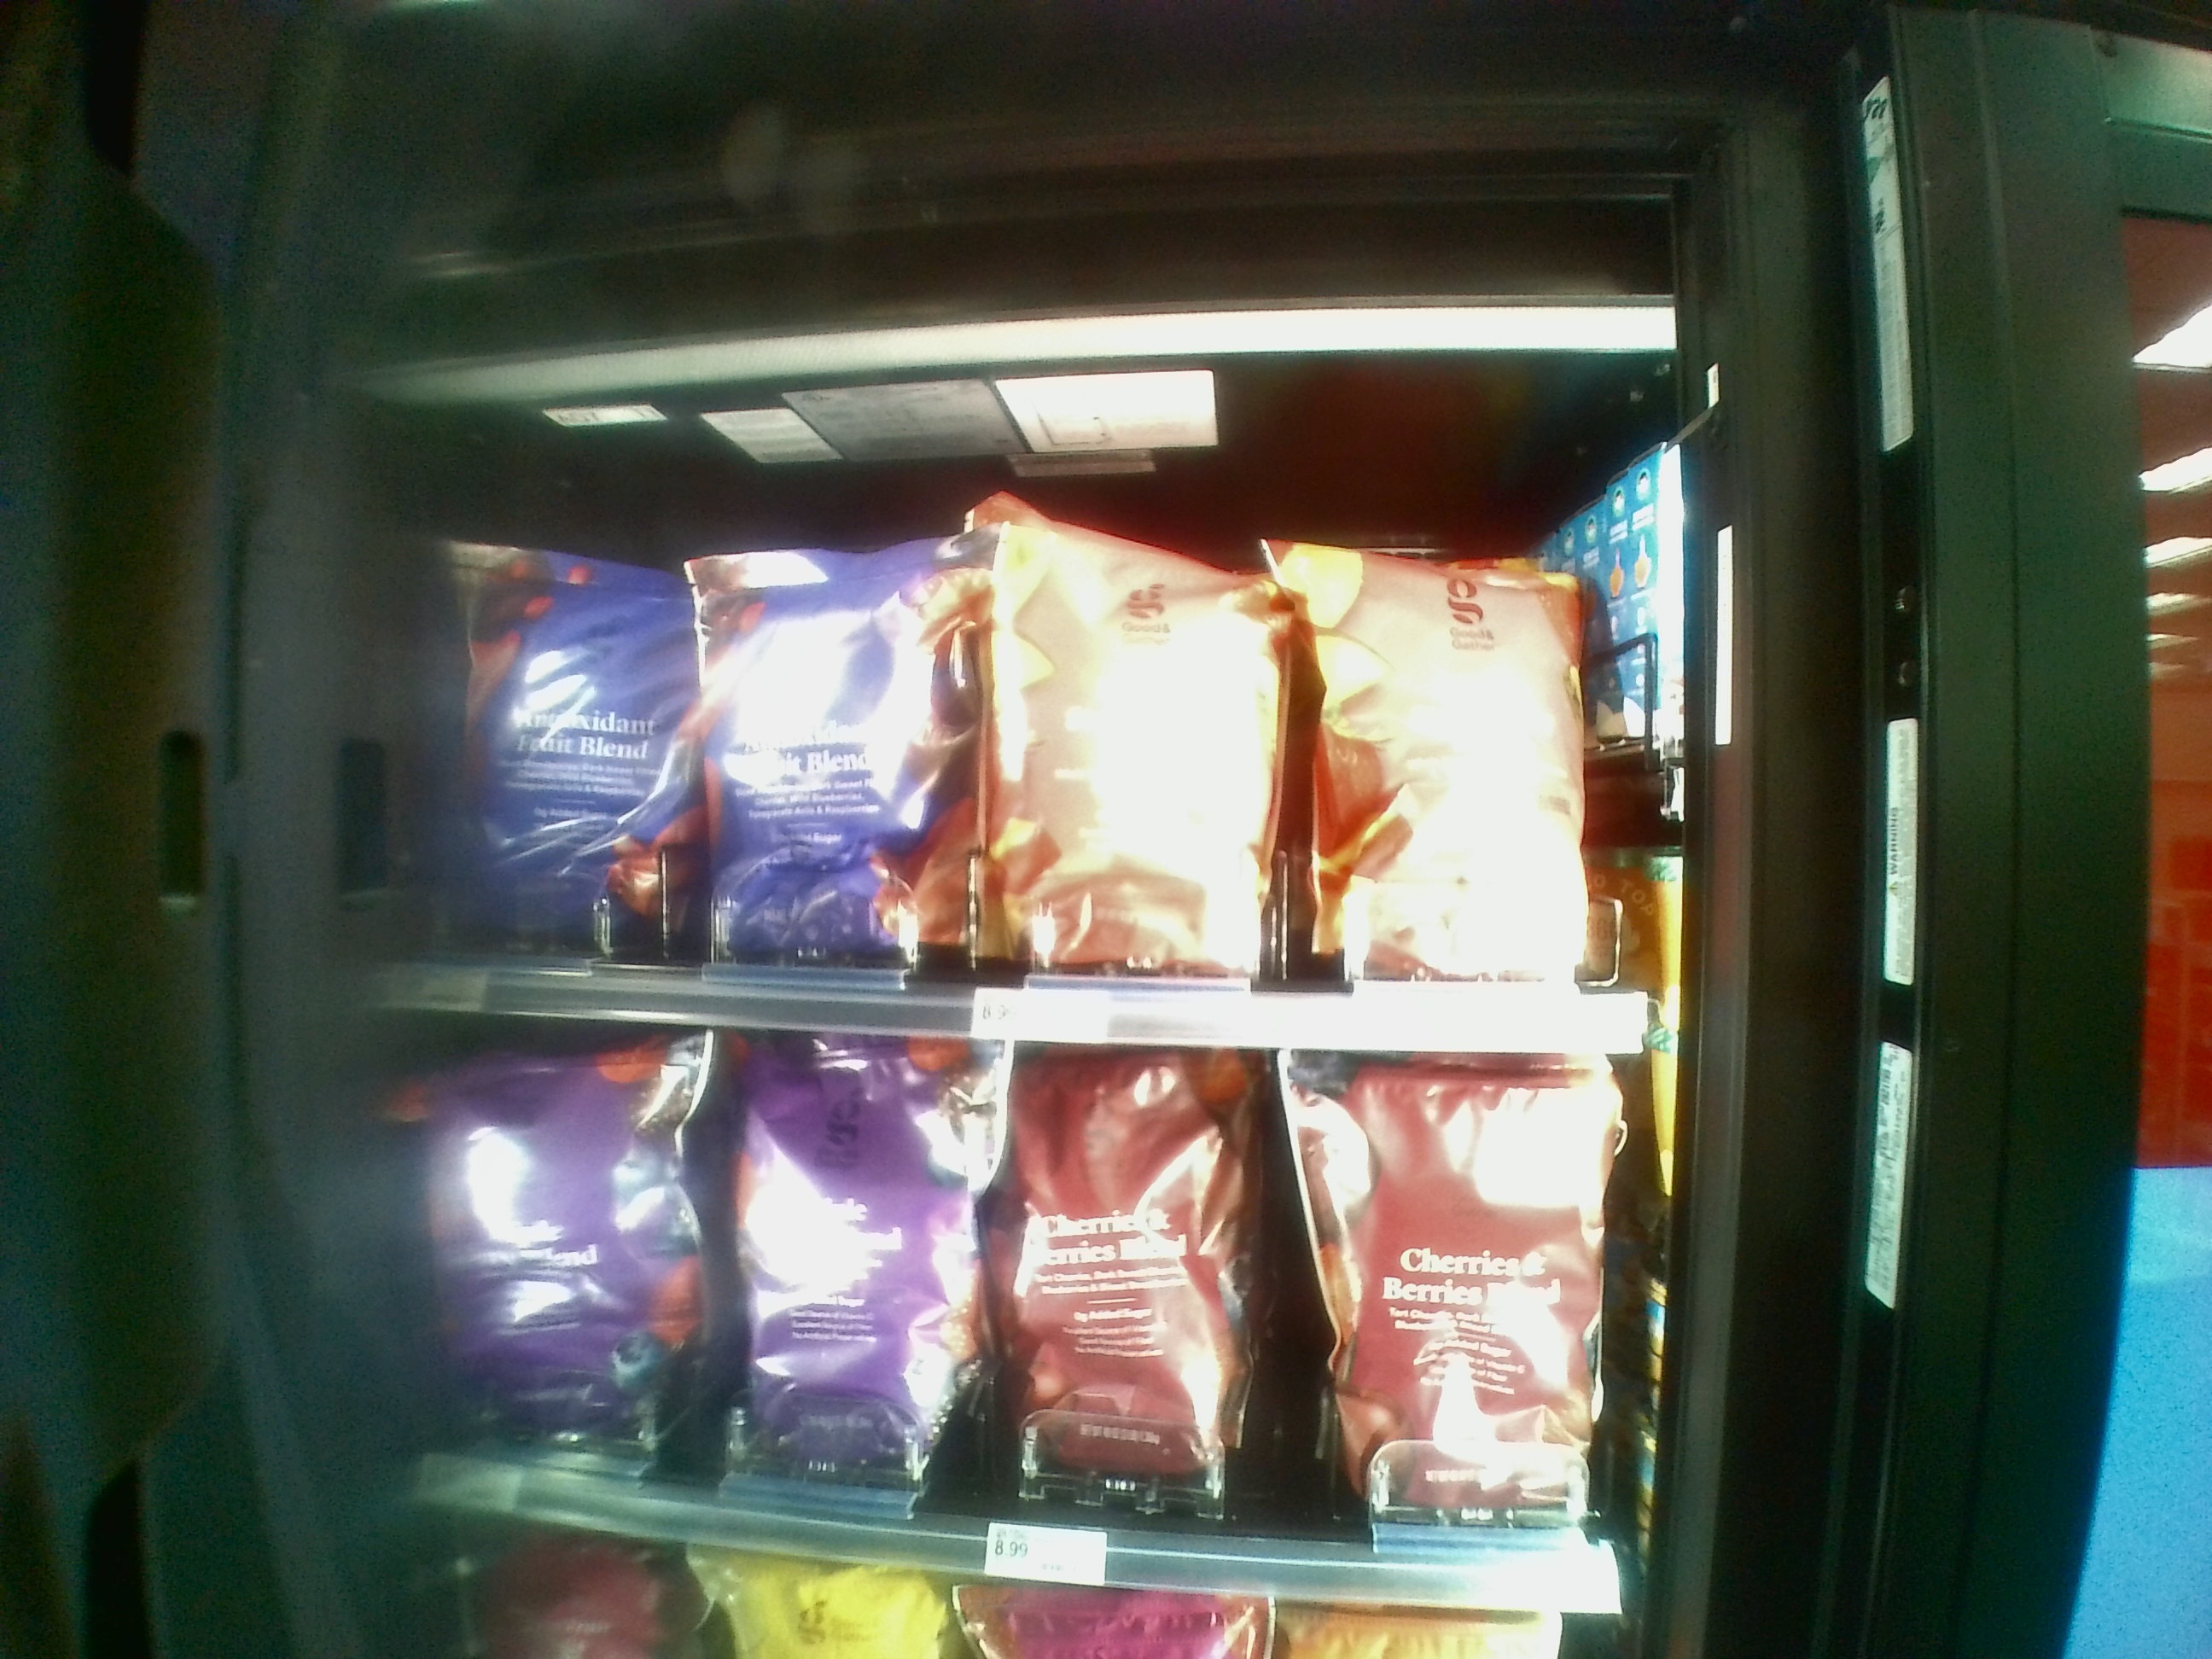shelf: (334, 387, 1681, 1049), (380, 1039, 1644, 1603)
